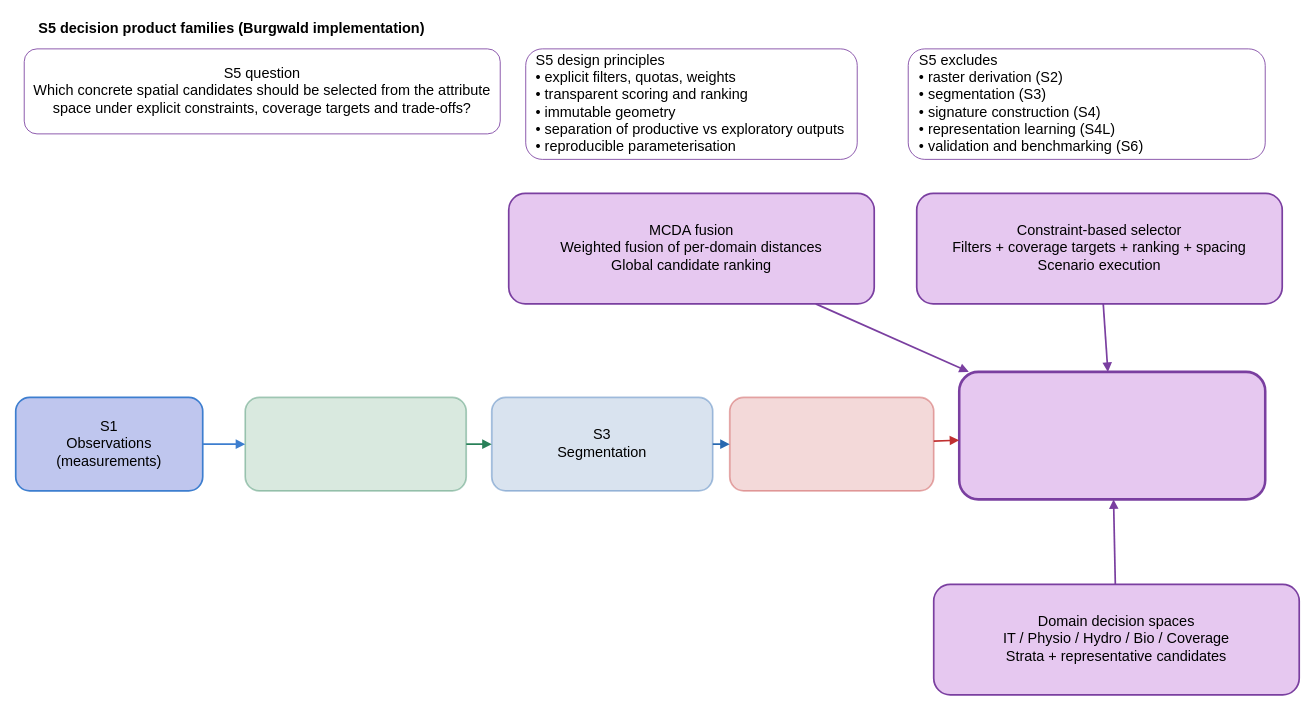
This 1314x710 diagram has some shape labels left out. Here are the shapes that lost their labels. From the top down, the box of each, then its label:
(244, 396, 467, 491): S2 Derived raster products
(728, 396, 934, 491): S4 Signatures
(958, 370, 1266, 500): S5 Decision and candidate selection (normative layer)
